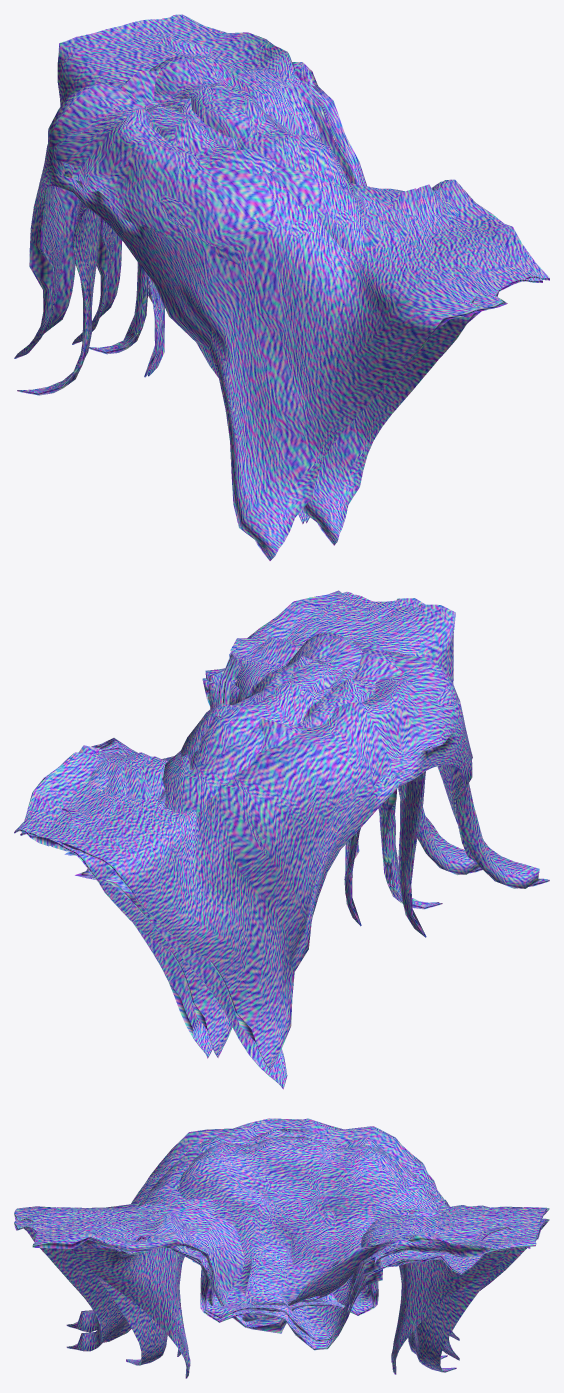
File: cloth.fbx
3 views of the same model, one above another, from view 1: azimuth 30°, elevation 25°; view 2: azimuth 150°, elevation 25°; view 3: azimuth 270°, elevation 25° (orthographic). The views are drawn at different scales.
Visible parts, largest first — view 1: apparatus_cloth, apparatus_cloth__1_, apparatus_cloth_02, barber_coat_05_big, barber_coat_03; view 2: apparatus_cloth, apparatus_cloth__1_, apparatus_cloth_02, barber_coat_05_big, barber_coat_03, barber_coat_05_small; view 3: barber_coat_03, apparatus_cloth__1_, apparatus_cloth, barber_coat_05_small, apparatus_cloth_02, barber_coat_05_big.
Boxes of the visible parts, x1,y1,x2,y2 form: apparatus_cloth: (14, 17, 542, 560); apparatus_cloth__1_: (72, 14, 549, 545); apparatus_cloth_02: (17, 71, 276, 395); barber_coat_05_big: (144, 55, 467, 524); barber_coat_03: (89, 36, 458, 354); apparatus_cloth: (20, 594, 549, 1070); apparatus_cloth__1_: (14, 590, 482, 1057); apparatus_cloth_02: (75, 648, 426, 1089); barber_coat_05_big: (68, 619, 442, 909); barber_coat_03: (62, 632, 361, 1058); barber_coat_05_small: (64, 618, 439, 904); barber_coat_03: (71, 1141, 512, 1378); apparatus_cloth__1_: (14, 1138, 549, 1360); apparatus_cloth: (14, 1118, 549, 1340); barber_coat_05_small: (73, 1190, 507, 1374); apparatus_cloth_02: (134, 1127, 530, 1359); barber_coat_05_big: (72, 1136, 449, 1369).
Size of the model in its own units: 567 by 647 by 1253.
